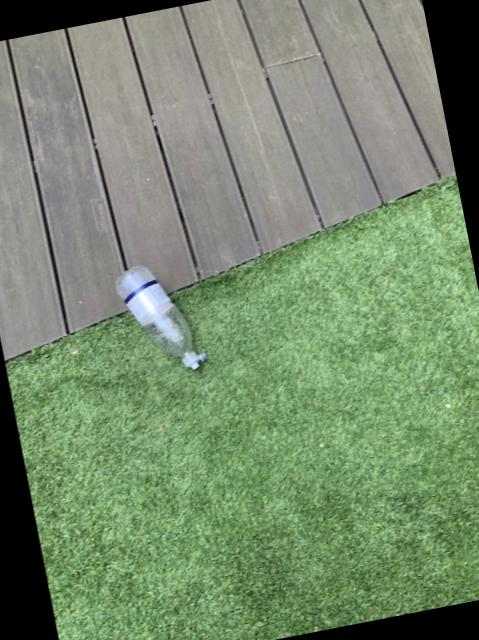plastic: (112, 264, 203, 368)
